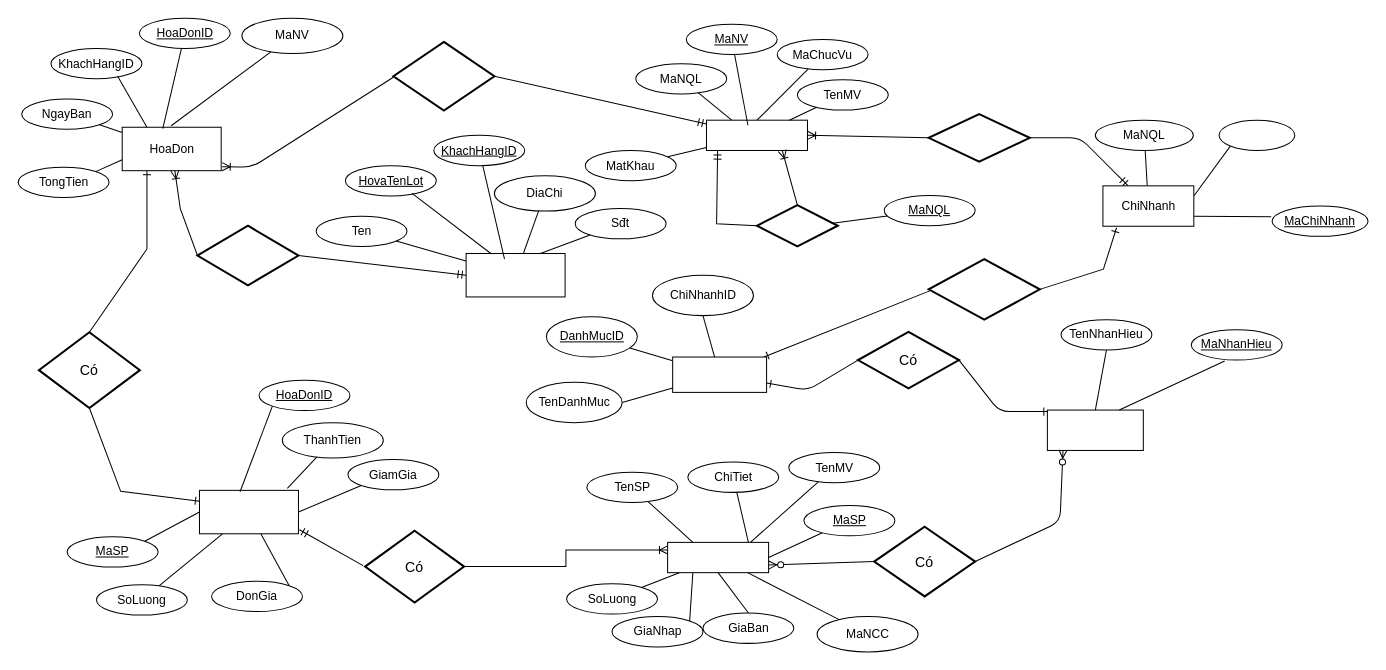
Image size: 1386x670. Some labels were removed from this diagram. The box of each missing label's shape, as (x1, y1, x2, y2) in pixels:
ChiTietHoaDon: (198, 489, 298, 534)
DanhMuc: (672, 356, 767, 392)
Employee: (705, 119, 807, 150)
KhachHang: (465, 252, 565, 297)
KinhDoanh: (927, 258, 1040, 320)
Lên đơn: (392, 40, 495, 111)
NhanHieu: (1046, 409, 1143, 450)
Nằm ở: (927, 113, 1030, 162)
Quản lý: (755, 204, 838, 247)
SanPham: (667, 541, 769, 573)
TenChiNhanh: (1218, 119, 1295, 150)
ThanhToan: (196, 224, 299, 286)
